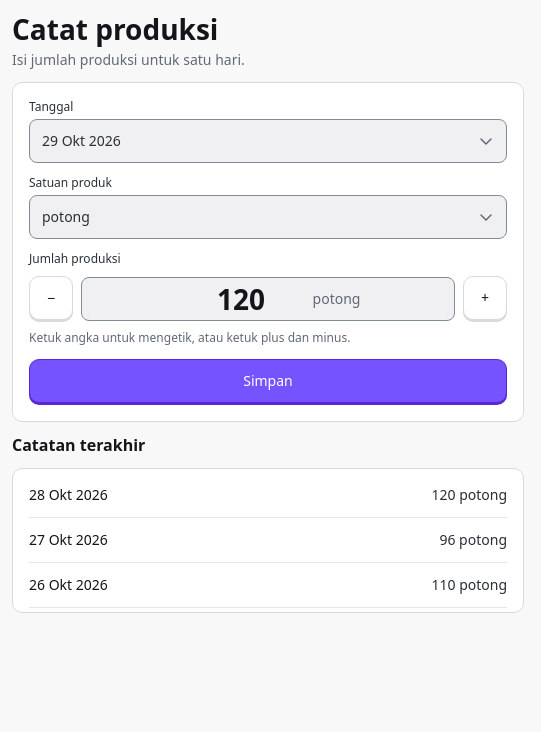
ProduksiPage › saves the record of the day and then offers to change it
Click the button named "Tambah".
click(485, 298)  # box [463,276,507,320]
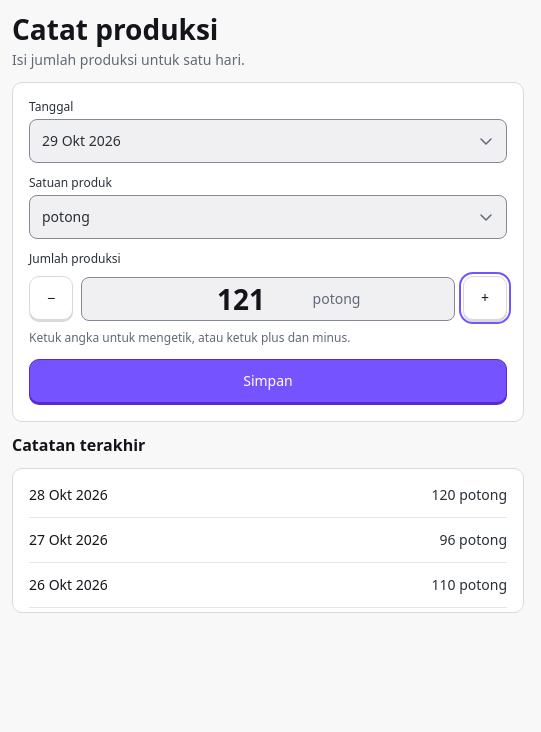
Click the button named "Tambah".
click(485, 298)  # box [463,276,507,320]
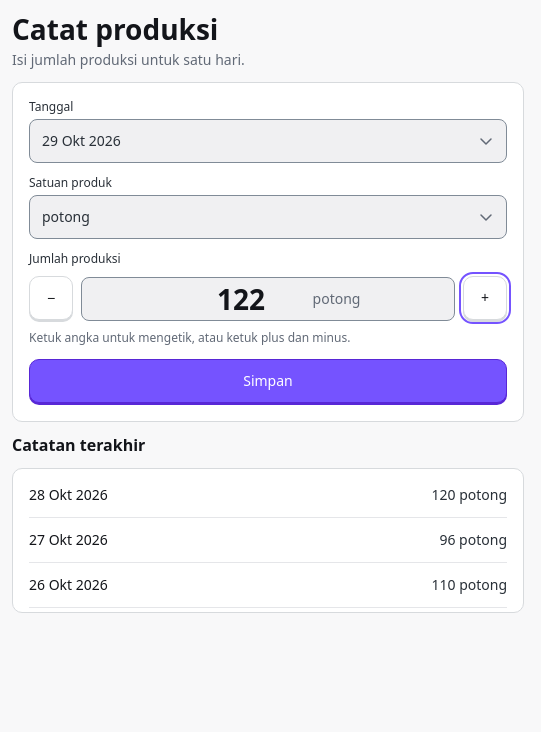
Click the button named "Tambah".
click(485, 298)  # box [463,276,507,320]
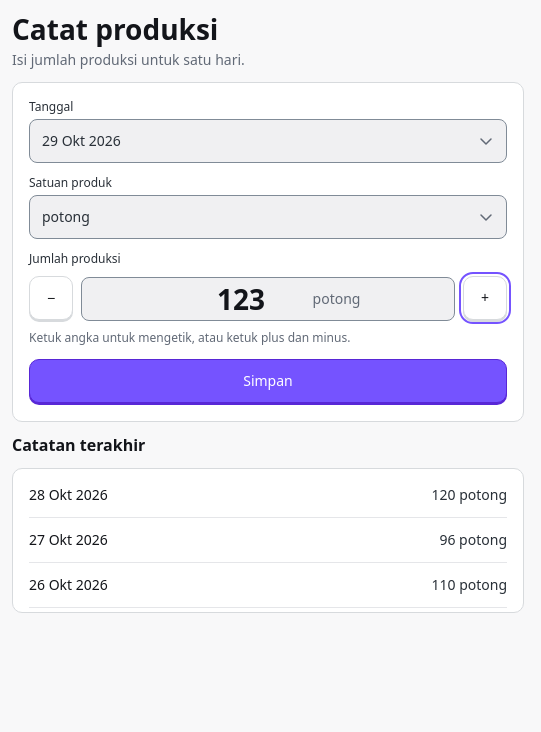
Click the button named "Tambah".
click(485, 298)  # box [463,276,507,320]
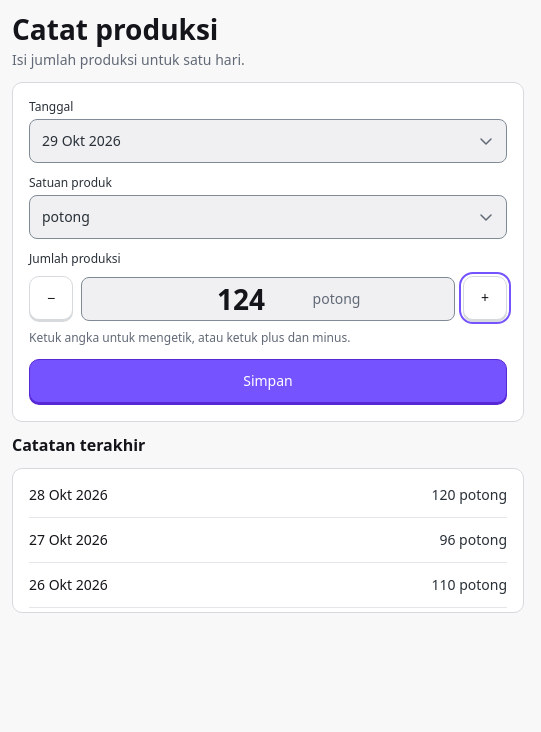
Click the button "Simpan".
click(268, 381)  # box [29,359,507,403]
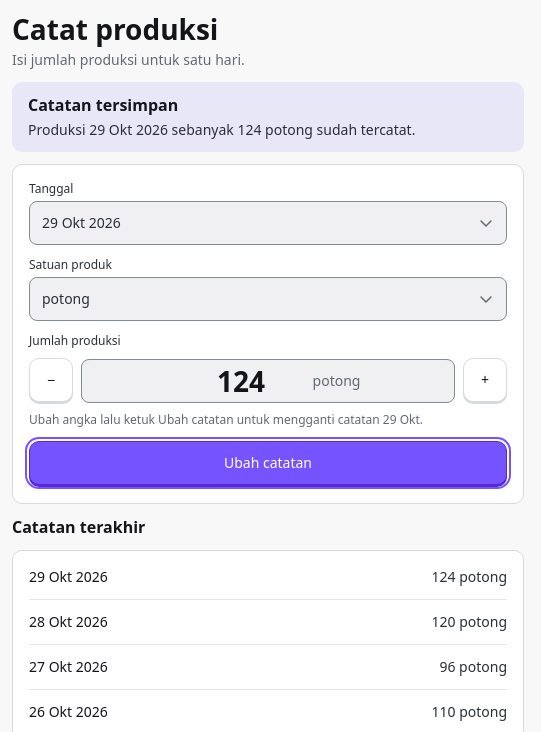
Expected: the text "Catatan tersimpan" is shown, [28,94,178,116]
Expected: the button "Ubah catatan" is shown, [29,441,507,485]
